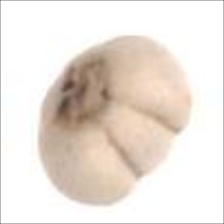L5: (99, 98, 182, 182), (46, 57, 116, 130)
L6: (35, 34, 194, 210)
